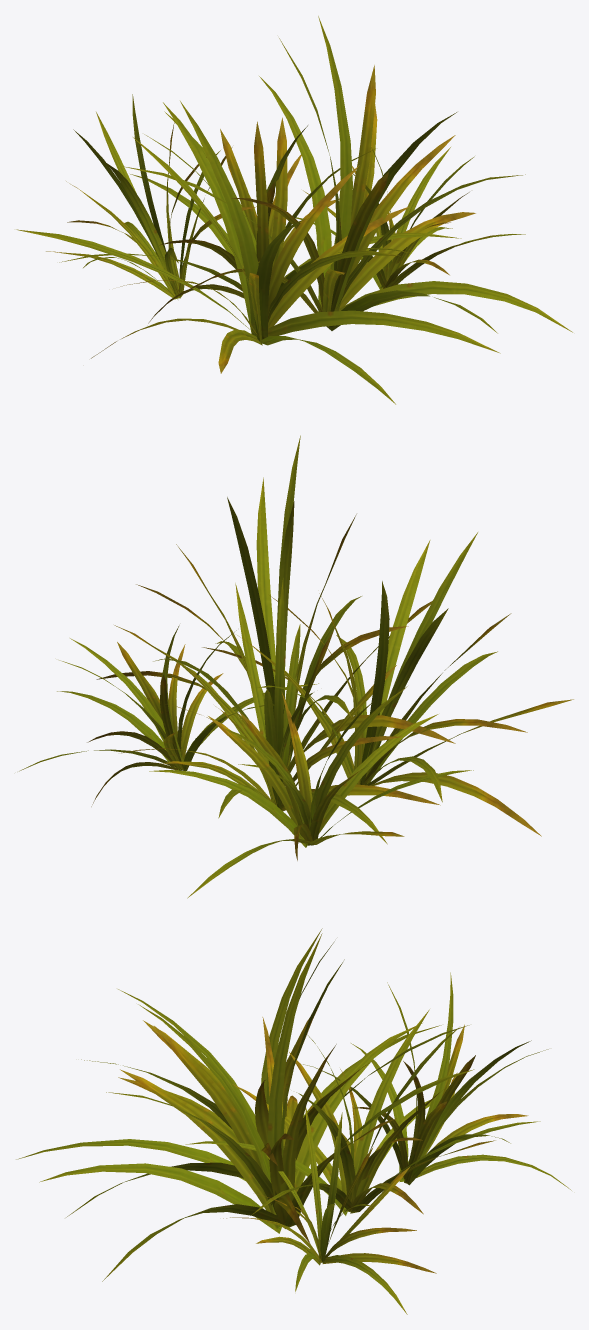
The model's file is Grass_plant_var3.fbx.
The picture shows the model from 3 angles, top to bottom: view 1: azimuth 30°, elevation 25°; view 2: azimuth 150°, elevation 25°; view 3: azimuth 270°, elevation 25°; orthographic projection. The views are drawn at different scales.
Parts seen in each view (by area): view 1: Grass_plant_var3_LOD0; view 2: Grass_plant_var3_LOD0; view 3: Grass_plant_var3_LOD0.
Boxes of the visible parts, bbox=[...] form: Grass_plant_var3_LOD0: bbox=[16, 16, 572, 404]; Grass_plant_var3_LOD0: bbox=[19, 435, 573, 898]; Grass_plant_var3_LOD0: bbox=[16, 928, 571, 1314].
Size of what is drawn, in the model's own units: 68.96 by 41.64 by 74.06.
